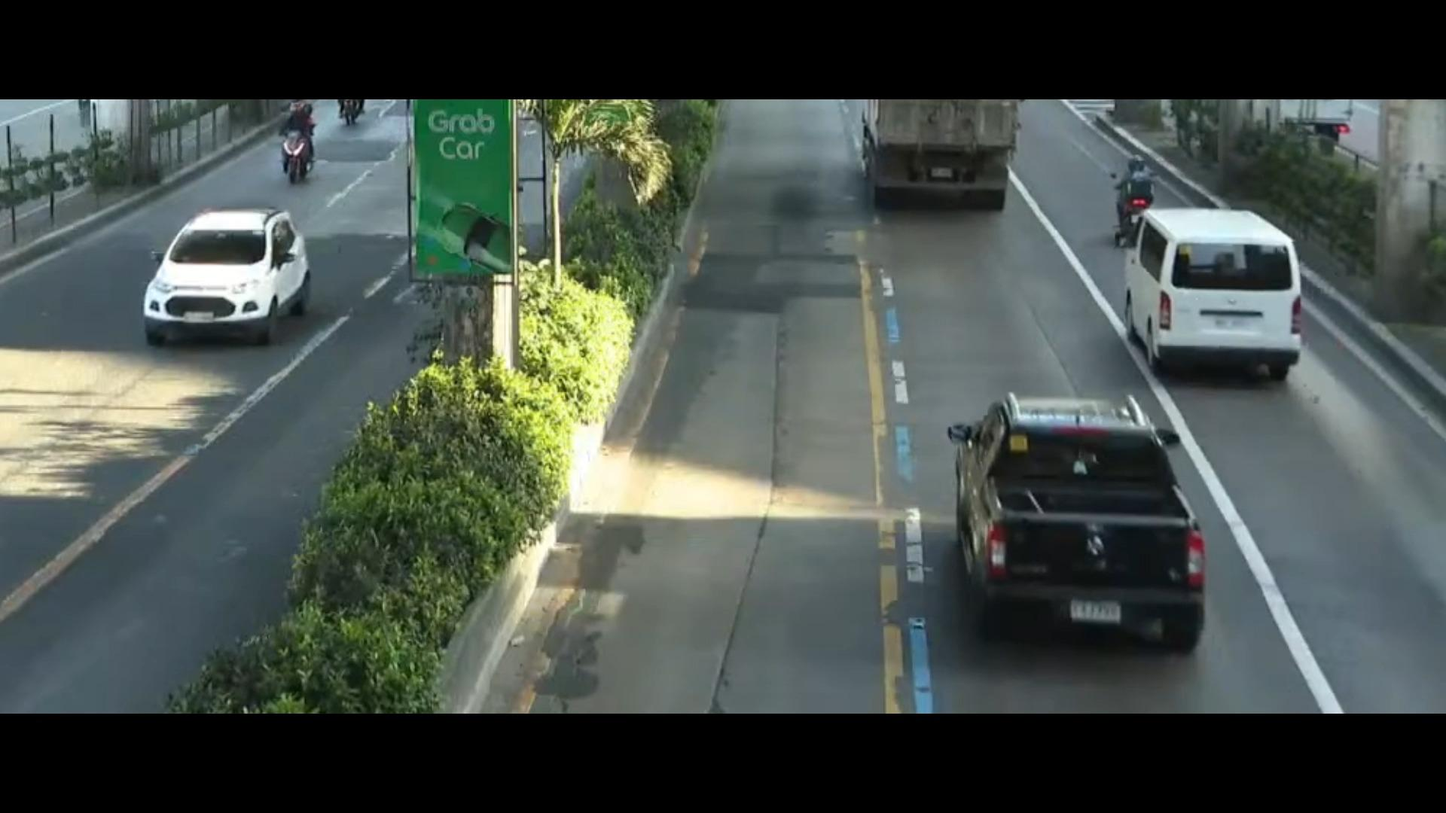Motorcycle: (1094, 149, 1178, 248), (268, 101, 339, 185)
Pickup: (942, 384, 1216, 661)
SUV: (129, 184, 327, 364)
Truck: (809, 97, 1046, 224)
Van: (1092, 209, 1326, 390)
